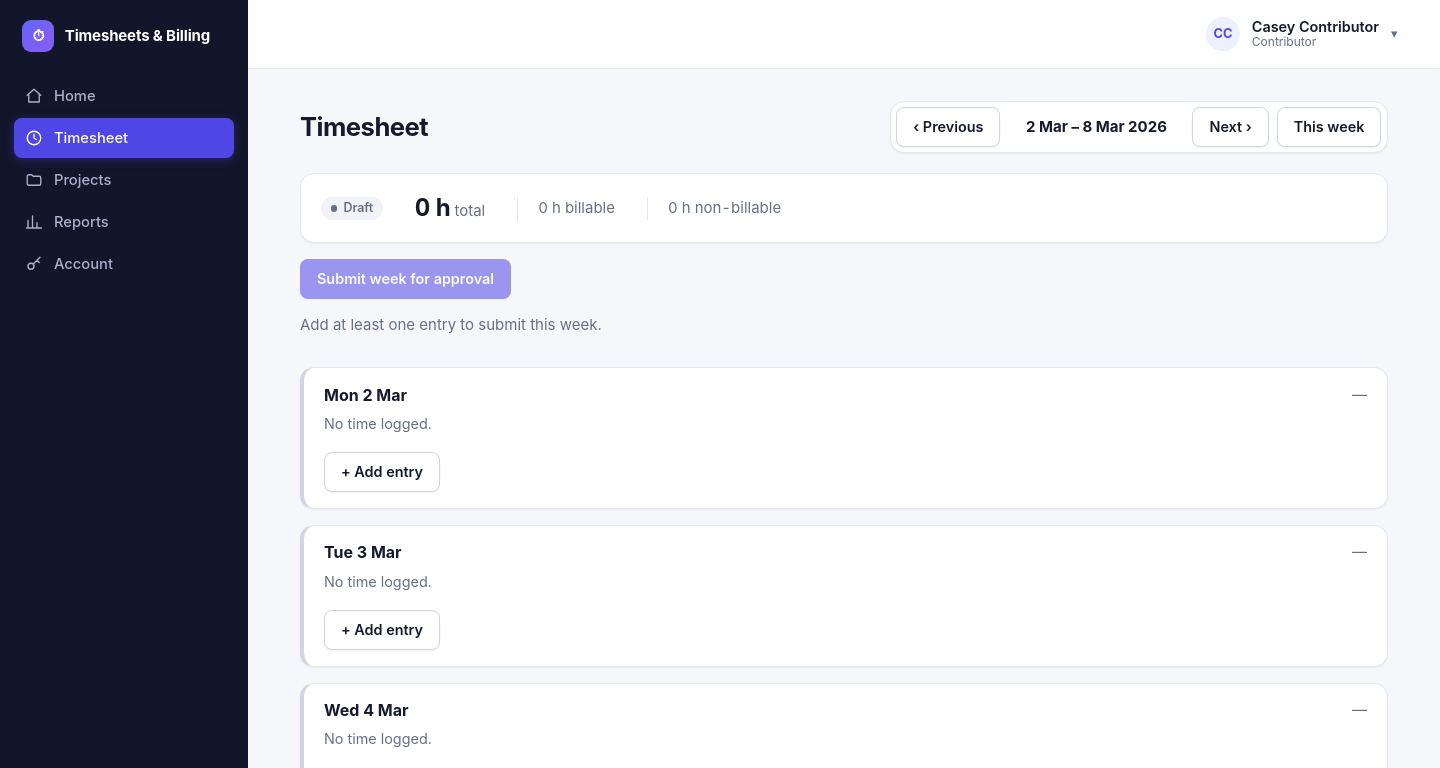
Test case: timesheet: adding entries › validates on the client and sends nothing when the form is incomplete
Expected: the heading "Timesheet" is shown, [300,108,428,146]
Expected: the text "total" is shown, [450,201,485,220]
What coordinates should you click on to do the following:
click the button with aria-label "Add entry on Mon 2 Mar"
I would click on:
 (382, 472)
Its box is [324,452,440,492].
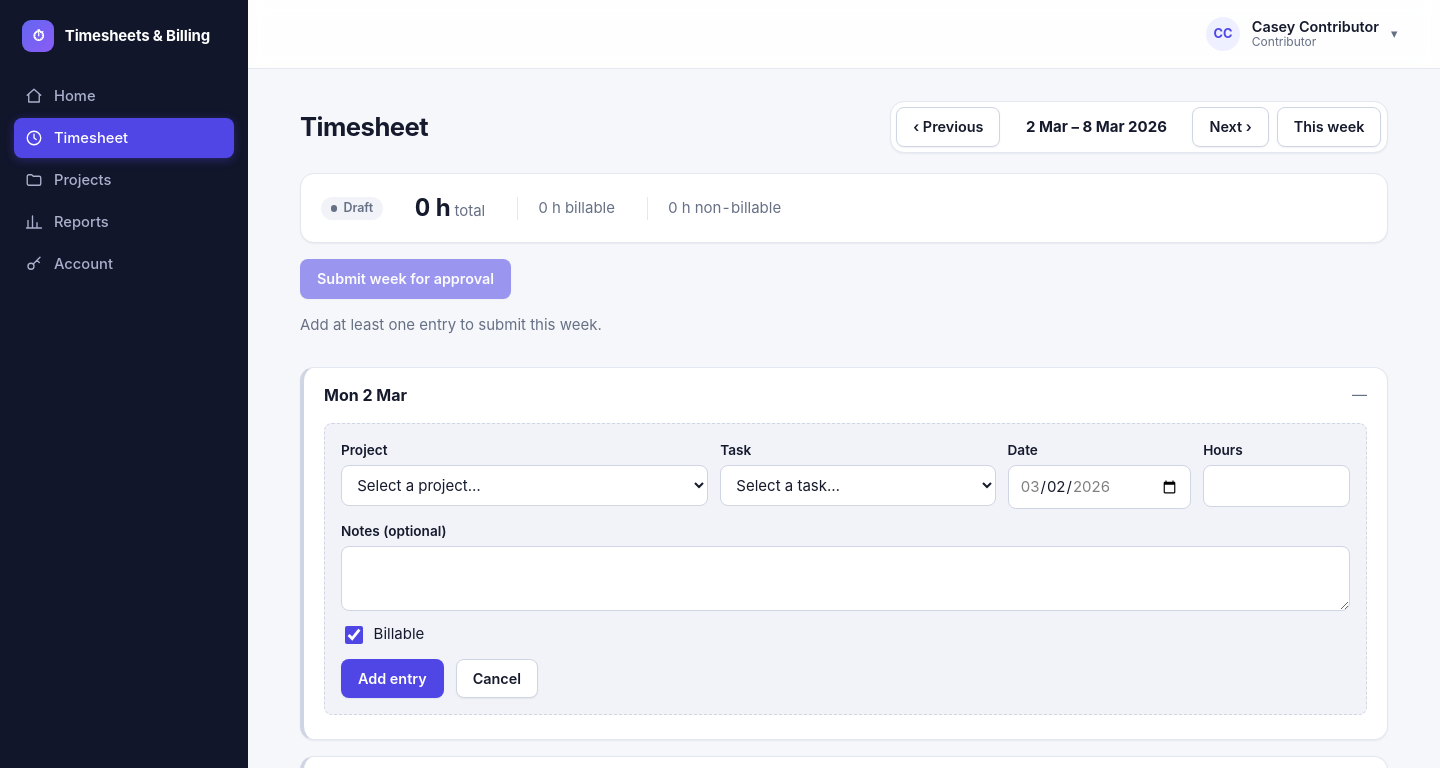
What coordinates should you click on to do the following:
click the button "Add entry"
I would click on:
 (392, 678)
Its box is [341,658,444,698].
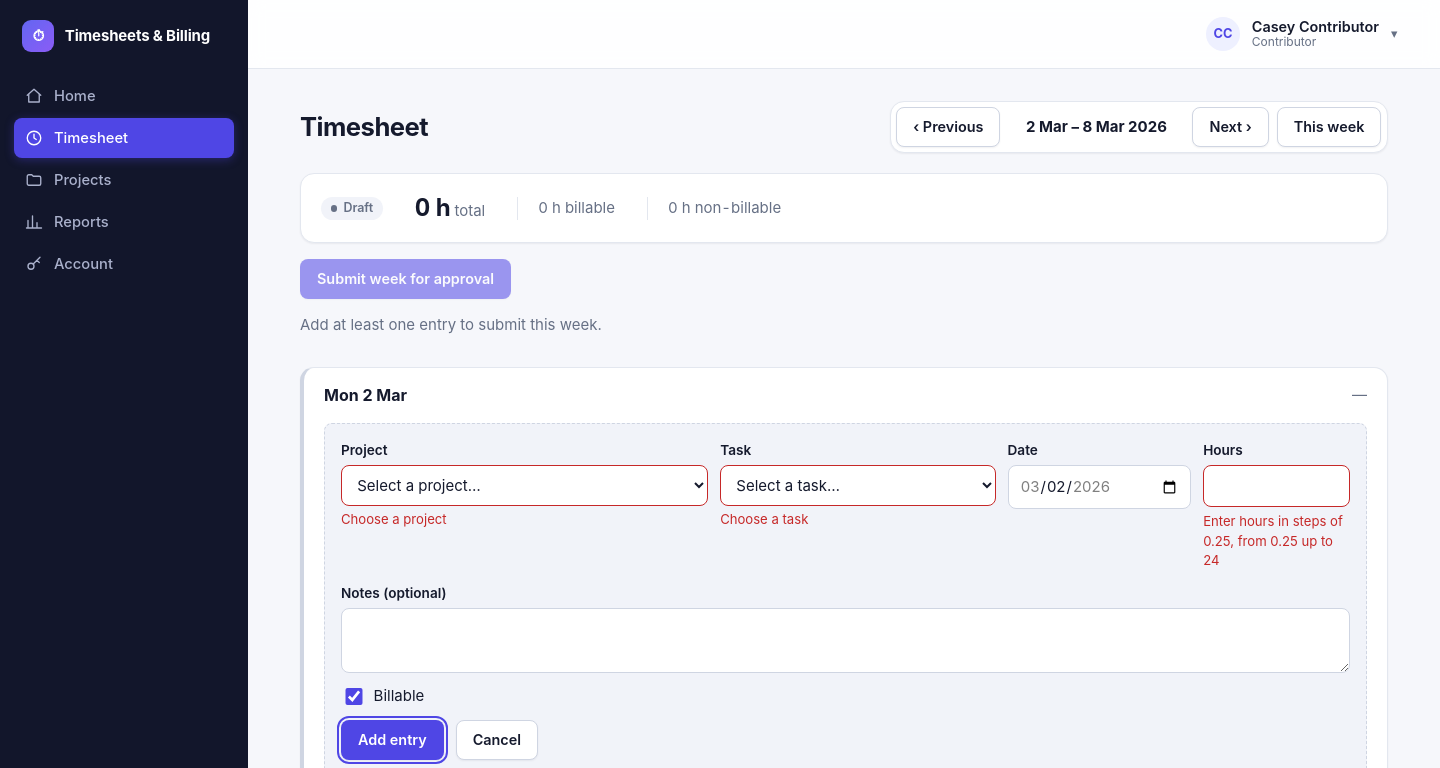
Expected: the text "Choose a project" is shown, [341,511,447,527]
Expected: the text "Choose a task" is shown, [720,511,808,527]
Expected: the text "Enter hours in steps of 0.25, from 0.25 up to 24" is shown, [1203,512,1350,571]
